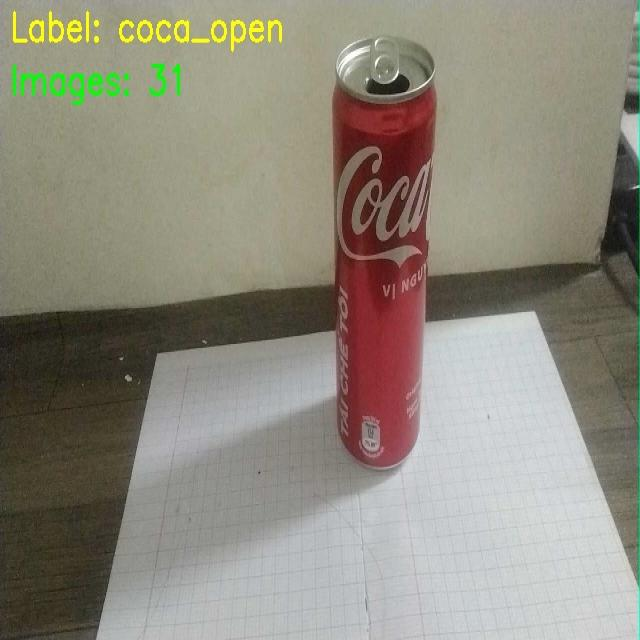Coca_open: (320, 30, 433, 475)
